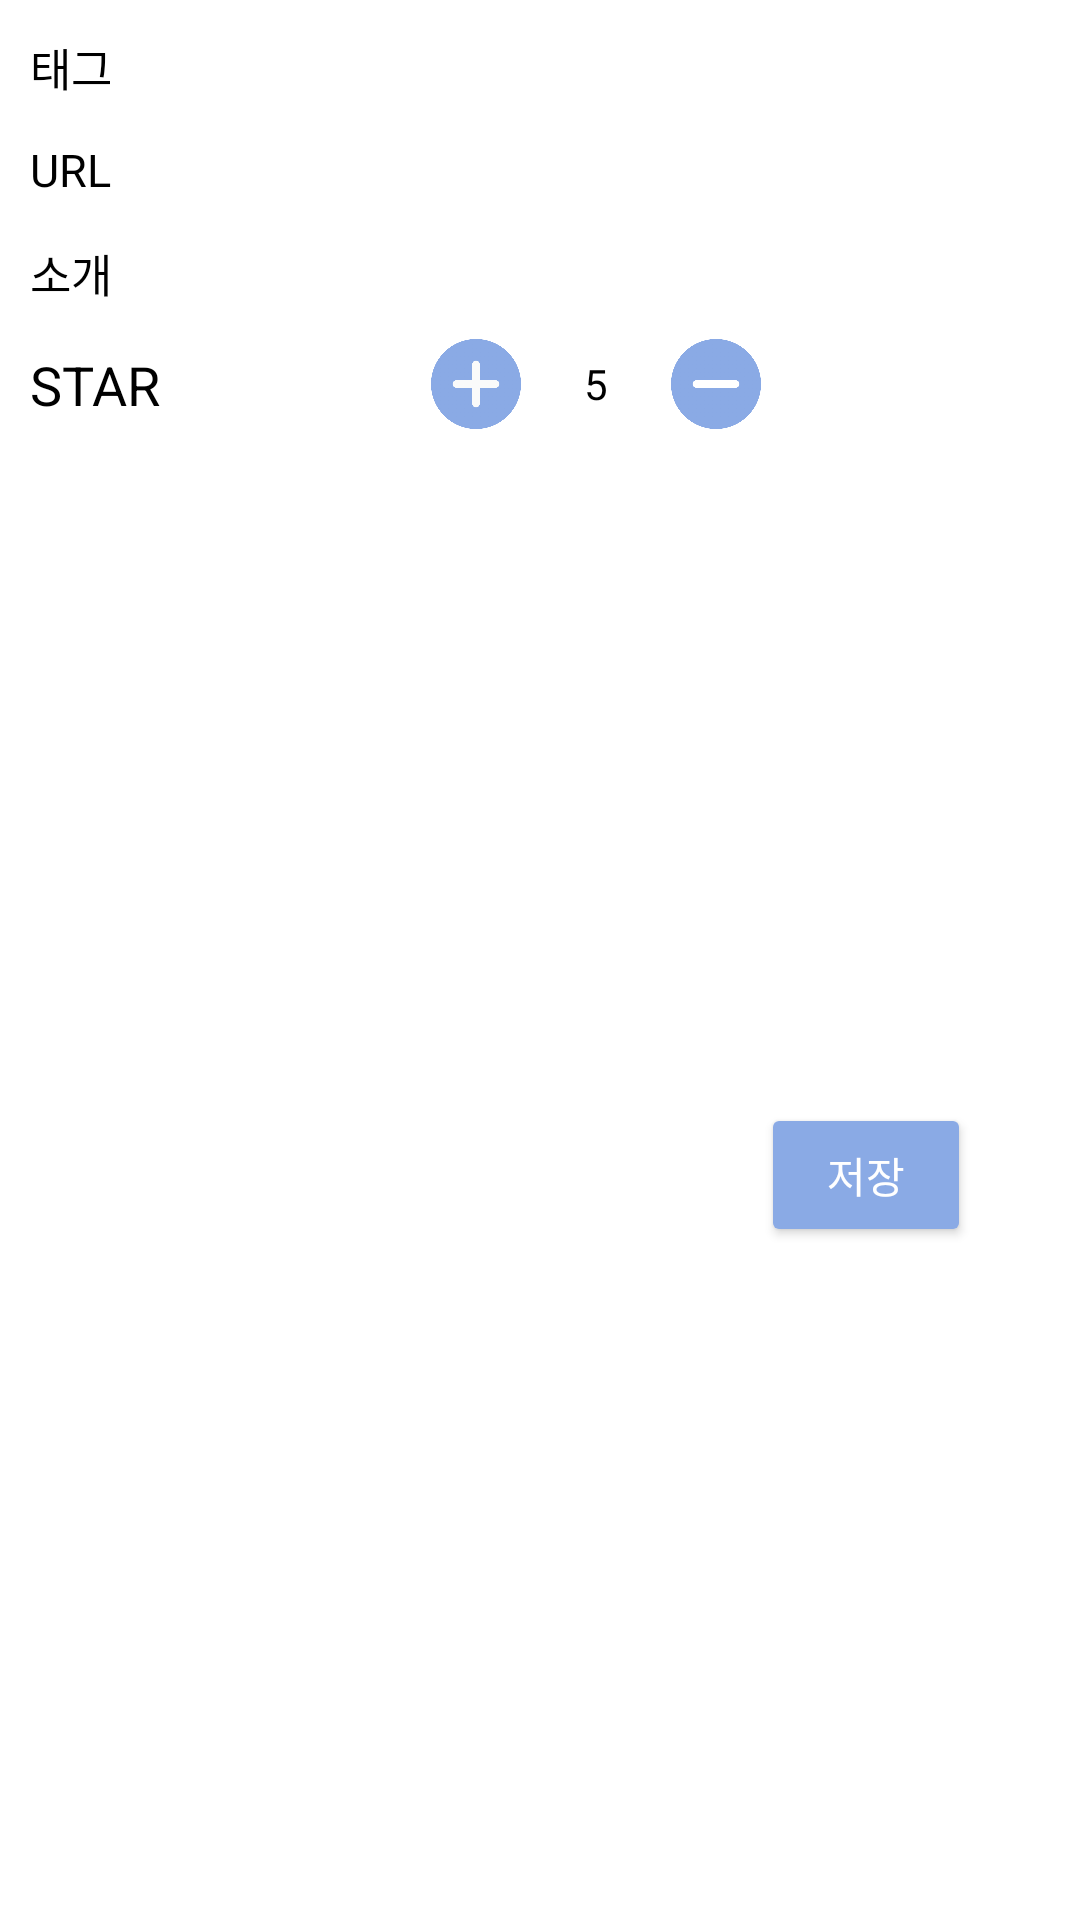

Where icons sit on this 1080×1920 app screen, as (x1, y1, x2, y2):
minus: (671, 339, 761, 429)
plus: (431, 339, 521, 429)
